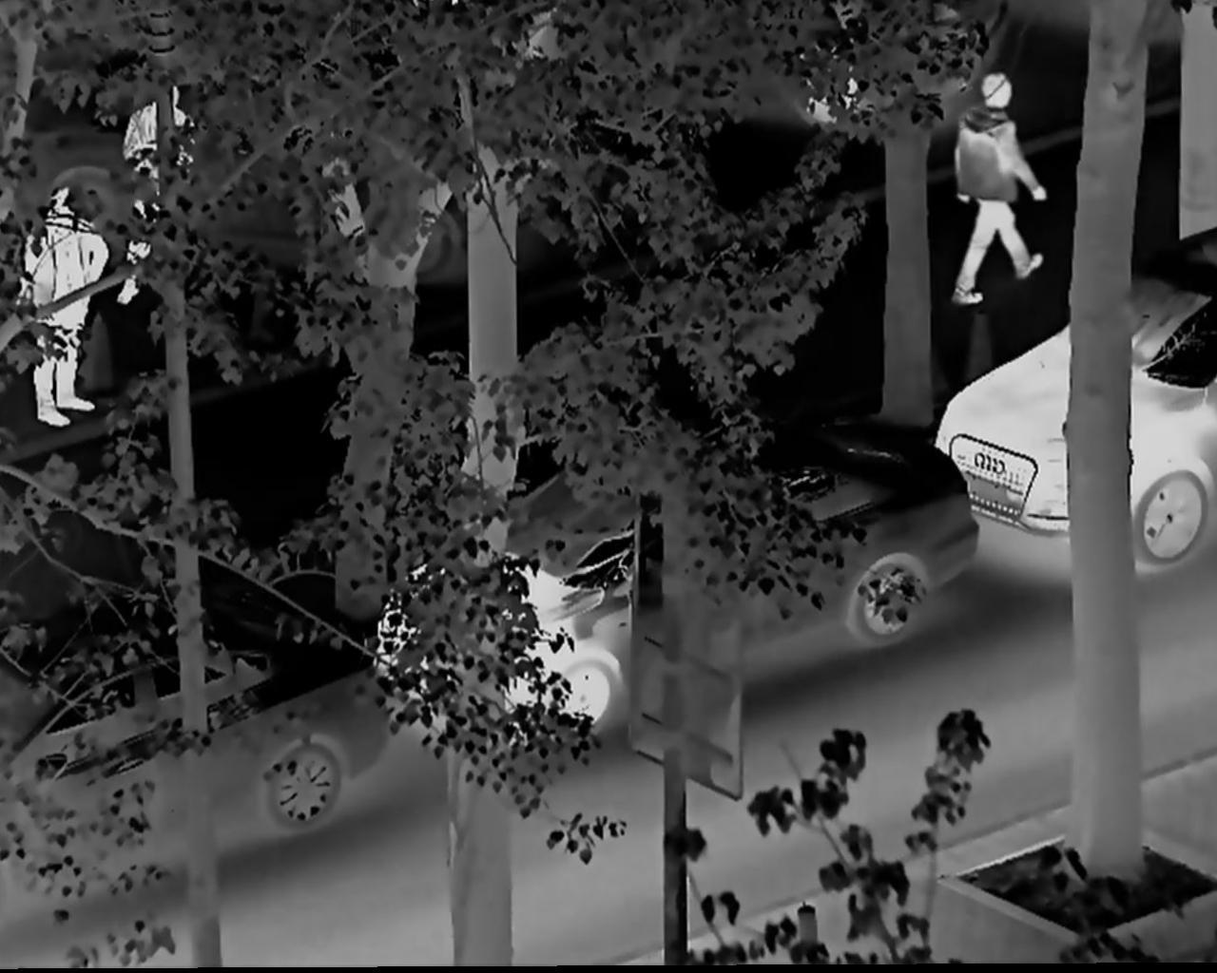person: (944, 70, 1053, 308), (15, 178, 103, 422), (113, 78, 198, 306)
